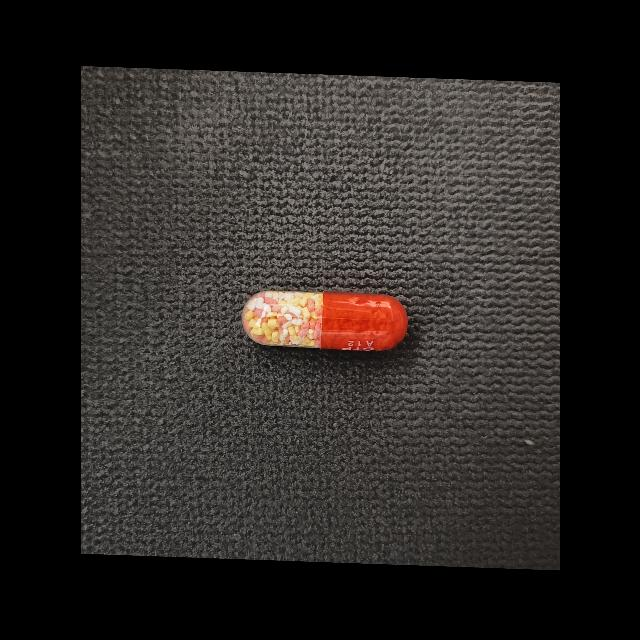Intact Capsule: (241, 290, 407, 351)
